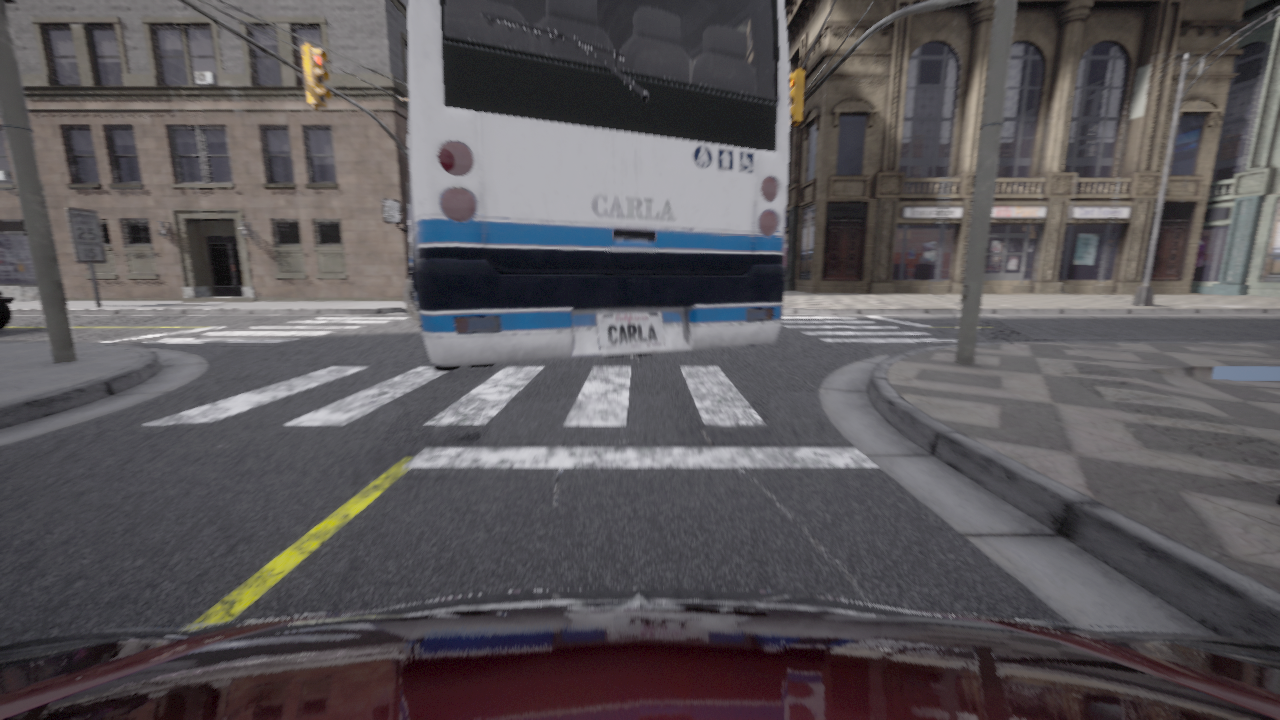cyclist: (0, 588, 1279, 719), (383, 0, 789, 370)
